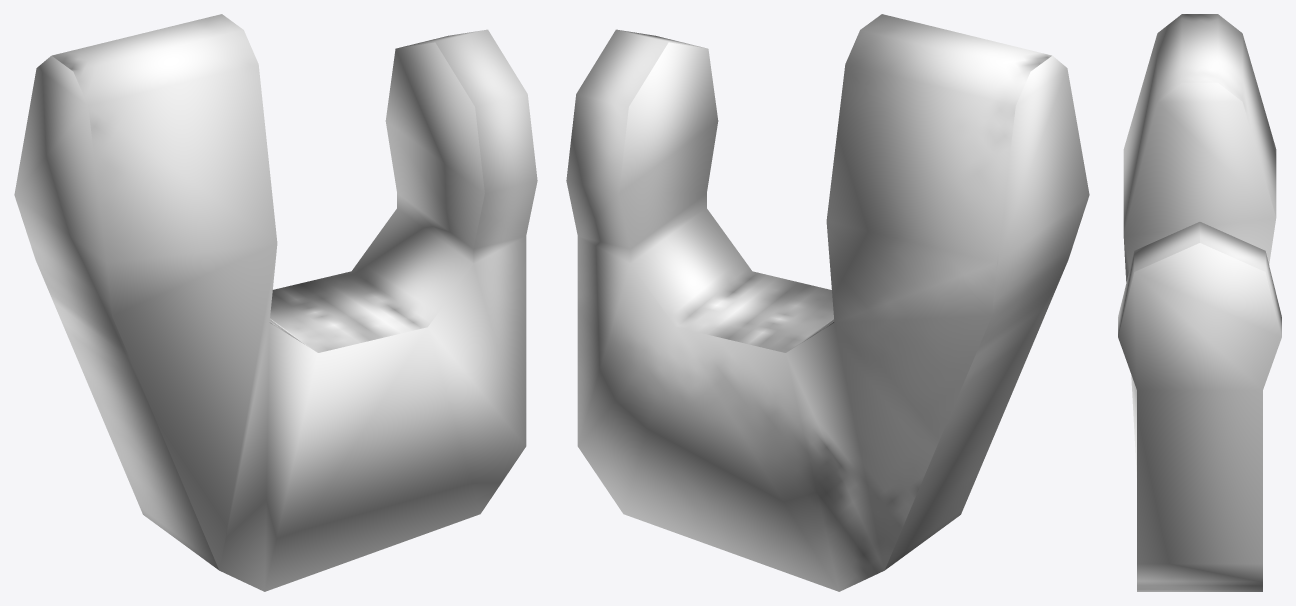
Rendered from mtorso.obj.
3 renders of one model, left to right at view 1: azimuth 30°, elevation 25°; view 2: azimuth 150°, elevation 25°; view 3: azimuth 270°, elevation 25°, orthographic. The views are drawn at different scales.
Visible parts, largest first — view 1: <dummy_root>; view 2: <dummy_root>; view 3: <dummy_root>.
Boxes of the visible parts, x1,y1,x2,y2 form: <dummy_root>: (14,14,537,591); <dummy_root>: (566,14,1089,591); <dummy_root>: (1118,14,1281,591).
Size of the model in its own units: 0.0837 by 0.1012 by 0.0337.
Materials: 1 (1 with a texture image).
